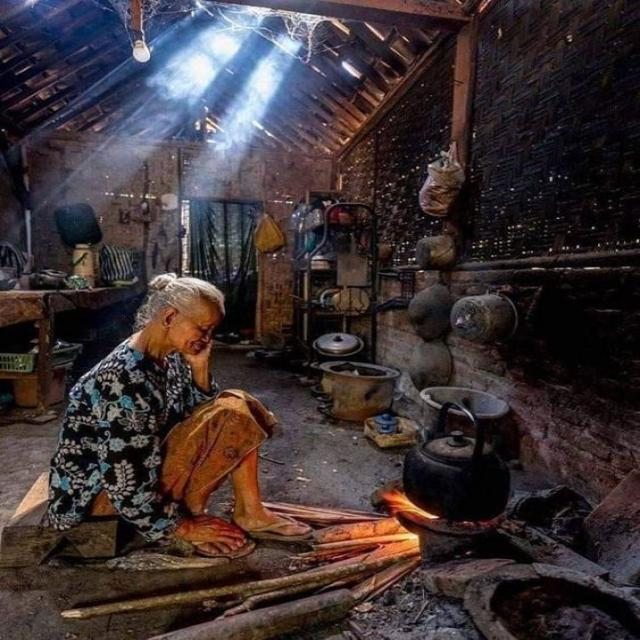fire: (381, 489, 440, 519)
